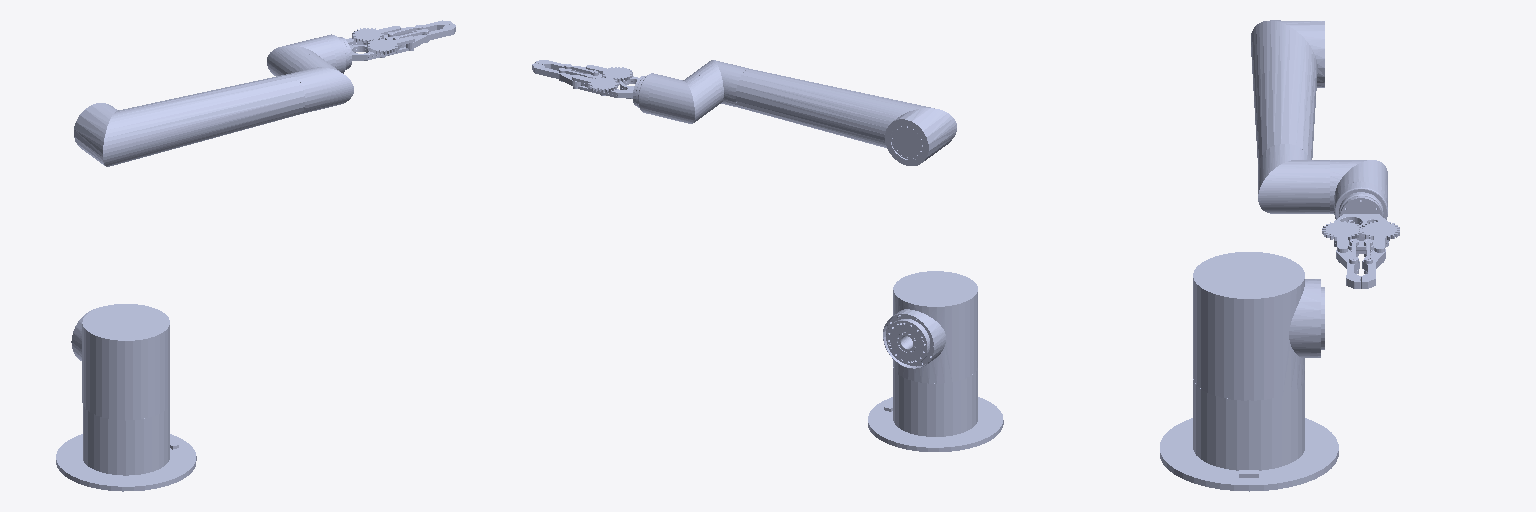
robot.urdf — robot_arm:
<robot
  name="robot_arm">
    <link name="world"/>

  <joint name="world_to_base" type="fixed">
    <parent link="world"/>
    <child link="base_link"/>
    <origin xyz="0 0 0" rpy="0 0 0"/>
  </joint>

  <link
    name="base_link">
    <inertial>
      <origin
        xyz="0.00033791 -8.6322E-06 0.072151"
        rpy="0 0 0" />
      <mass
        value="4.4055" />
      <inertia
        ixx="0.043342"
        ixy="-4.1293E-08"
        ixz="4.8991E-05"
        iyy="0.043568"
        iyz="-2.6332E-08"
        izz="0.063172" />
    </inertial>
    <visual>
      <origin
        xyz="0 0 0"
        rpy="0 0 0" />
      <geometry>
        <mesh
          filename="package://robot_arm/meshes/base_link.STL" />
      </geometry>
      <material
        name="">
        <color
          rgba="0.79216 0.81961 0.93333 1" />
      </material>
    </visual>
    <collision>
      <origin
        xyz="0 0 0"
        rpy="0 0 0" />
      <geometry>
        <mesh
          filename="package://robot_arm/meshes/base_link.STL" />
      </geometry>
    </collision>
  </link>
  <link
    name="link_1">
    <inertial>
      <origin
        xyz="0.0629481179134198 2.38289723024472E-05 0.133600984061708"
        rpy="0 0 0" />
      <mass
        value="1.87651195817962" />
      <inertia
        ixx="0.0175122406529912"
        ixy="4.75206626321694E-07"
        ixz="-0.000159492178414551"
        iyy="0.0161581943779732"
        iyz="-4.79165845226782E-07"
        izz="0.0142549003682989" />
    </inertial>
    <visual>
      <origin
        xyz="0 0 0"
        rpy="0 0 0" />
      <geometry>
        <mesh
          filename="package://robot_arm/meshes/link_1.STL" />
      </geometry>
      <material
        name="">
        <color
          rgba="0.792156862745098 0.819607843137255 0.933333333333333 1" />
      </material>
    </visual>
    <collision>
      <origin
        xyz="0 0 0"
        rpy="0 0 0" />
      <geometry>
        <mesh
          filename="package://robot_arm/meshes/link_1.STL" />
      </geometry>
    </collision>
  </link>
  <joint
    name="joint_1"
    type="revolute">
    <origin
      xyz="0 0 0.189"
      rpy="0 0 1.5708" />
    <parent
      link="base_link" />
    <child
      link="link_1" />
    <axis
      xyz="0 0 1" />
    <limit
      lower="-3.1416"
      upper="3.1416"
      effort="300"
      velocity="3.1416" />
  </joint>
  <link
    name="link_2">
    <inertial>
      <origin
        xyz="2.02803890482726E-05 0.393390159127154 0.0869587267477594"
        rpy="0 0 0" />
      <mass
        value="1.94569960752305" />
      <inertia
        ixx="0.0945732033859679"
        ixy="1.14433972046893E-06"
        ixz="1.89615028150245E-06"
        iyy="0.0106360113793762"
        iyz="-0.00171308153184432"
        izz="0.0942068157625614" />
    </inertial>
    <visual>
      <origin
        xyz="0 0 0"
        rpy="0 0 0" />
      <geometry>
        <mesh
          filename="package://robot_arm/meshes/link_2.STL" />
      </geometry>
      <material
        name="">
        <color
          rgba="0.792156862745098 0.819607843137255 0.933333333333333 1" />
      </material>
    </visual>
    <collision>
      <origin
        xyz="0 0 0"
        rpy="0 0 0" />
      <geometry>
        <mesh
          filename="package://robot_arm/meshes/link_2.STL" />
      </geometry>
    </collision>
  </link>
  <joint
    name="joint_2"
    type="revolute">
    <origin
      xyz="0.16 0 0.143"
      rpy="1.5708 0 1.5708" />
    <parent
      link="link_1" />
    <child
      link="link_2" />
    <axis
      xyz="0 0 1" />
    <limit
      lower="-1.5708"
      upper="3.1416"
      effort="500"
      velocity="3.1416" />
  </joint>
  <link
    name="link_3">
    <inertial>
      <origin
        xyz="-0.24100644770776 -1.78769323841976E-05 -0.0842683130518023"
        rpy="0 0 0" />
      <mass
        value="0.992123718214445" />
      <inertia
        ixx="0.0046404662727883"
        ixy="1.69568564621363E-06"
        ixz="-0.00136820638771841"
        iyy="0.0467810847303651"
        iyz="-5.53204496736316E-07"
        izz="0.0464143588828456" />
    </inertial>
    <visual>
      <origin
        xyz="0 0 0"
        rpy="0 0 0" />
      <geometry>
        <mesh
          filename="package://robot_arm/meshes/link_3.STL" />
      </geometry>
      <material
        name="">
        <color
          rgba="0.792156862745098 0.819607843137255 0.933333333333333 1" />
      </material>
    </visual>
    <collision>
      <origin
        xyz="0 0 0"
        rpy="0 0 0" />
      <geometry>
        <mesh
          filename="package://robot_arm/meshes/link_3.STL" />
      </geometry>
    </collision>
  </link>
  <joint
    name="joint_3"
    type="revolute">
    <origin
      xyz="0 0.65 0.01"
      rpy="0 0 0" />
    <parent
      link="link_2" />
    <child
      link="link_3" />
    <axis
      xyz="0 0 -1" />
    <limit
      lower="-2.3562"
      upper="2.3562"
      effort="350"
      velocity="3.1416" />
  </joint>
  <link
    name="link_4">
    <inertial>
      <origin
        xyz="0.0124721068231639 -6.80014488052549E-08 0.0730062206573129"
        rpy="0 0 0" />
      <mass
        value="0.288479921044316" />
      <inertia
        ixx="0.00130126015875175"
        ixy="-1.81543364389925E-09"
        ixz="-9.65870367170802E-05"
        iyy="0.00147099830935306"
        iyz="1.25645862243786E-10"
        izz="0.00106161180378532" />
    </inertial>
    <visual>
      <origin
        xyz="0 0 0"
        rpy="0 0 0" />
      <geometry>
        <mesh
          filename="package://robot_arm/meshes/link_4.STL" />
      </geometry>
      <material
        name="">
        <color
          rgba="0.792156862745098 0.819607843137255 0.933333333333333 1" />
      </material>
    </visual>
    <collision>
      <origin
        xyz="0 0 0"
        rpy="0 0 0" />
      <geometry>
        <mesh
          filename="package://robot_arm/meshes/link_4.STL" />
      </geometry>
    </collision>
  </link>
  <joint
    name="joint_4"
    type="revolute">
    <origin
      xyz="-0.6 0 -0.09"
      rpy="0 -1.5708 0" />
    <parent
      link="link_3" />
    <child
      link="link_4" />
    <axis
      xyz="0 0 -1" />
    <limit
      lower="-3.1416"
      upper="3.1416"
      effort="120"
      velocity="3.1416" />
  </joint>
  <link
    name="link_5">
    <inertial>
      <origin
        xyz="0.0140876410223744 7.23890825060636E-08 -0.0567094508970235"
        rpy="0 0 0" />
      <mass
        value="0.255398508666998" />
      <inertia
        ixx="0.000910418944898211"
        ixy="1.55492954739037E-09"
        ixz="4.72812969224889E-05"
        iyy="0.00107433949779789"
        iyz="1.53099711233508E-10"
        izz="0.00094251190261603" />
    </inertial>
    <visual>
      <origin
        xyz="0 0 0"
        rpy="0 0 0" />
      <geometry>
        <mesh
          filename="package://robot_arm/meshes/link_5.STL" />
      </geometry>
      <material
        name="">
        <color
          rgba="0.792156862745098 0.819607843137255 0.933333333333333 1" />
      </material>
    </visual>
    <collision>
      <origin
        xyz="0 0 0"
        rpy="0 0 0" />
      <geometry>
        <mesh
          filename="package://robot_arm/meshes/link_5.STL" />
      </geometry>
    </collision>
  </link>
  <joint
    name="joint_5"
    type="revolute">
    <origin
      xyz="0.0999999999999999 0 0.0998500000000002"
      rpy="0 -1.5707963267949 0" />
    <parent
      link="link_4" />
    <child
      link="link_5" />
    <axis
      xyz="0 0 -1" />
    <limit
      lower="-2.0944"
      upper="2.0944"
      effort="120"
      velocity="3.1416" />
  </joint>
  <link
    name="link_6">
    <inertial>
      <origin
        xyz="1.59432845175944E-07 -9.56734994561614E-08 0.0348586525989366"
        rpy="0 0 0" />
      <mass
        value="0.648640309376528" />
      <inertia
        ixx="0.00057975174480598"
        ixy="-1.88117277497814E-09"
        ixz="1.57376026490721E-09"
        iyy="0.000615308211609678"
        iyz="-9.44391136142298E-10"
        izz="0.000947390669096288" />
    </inertial>
    <visual>
      <origin
        xyz="0 0 0"
        rpy="0 0 0" />
      <geometry>
        <mesh
          filename="package://robot_arm_with_gripper_urdf/meshes/link_6.STL" />
      </geometry>
      <material
        name="">
        <color
          rgba="0.792156862745098 0.819607843137255 0.933333333333333 1" />
      </material>
    </visual>
    <collision>
      <origin
        xyz="0 0 0"
        rpy="0 0 0" />
      <geometry>
        <mesh
          filename="package://robot_arm_with_gripper_urdf/meshes/link_6.STL" />
      </geometry>
    </collision>
  </link>
  <joint
    name="joint_6"
    type="revolute">
    <origin
      xyz="0.1 0 -0.06985"
      rpy="0 1.5708 0" />
    <parent
      link="link_5" />
    <child
      link="link_6" />
    <axis
      xyz="0 0 -1" />
    <limit
      lower="-3.1416"
      upper="3.1416"
      effort="50"
      velocity="3.1416" />
  </joint>
  <link
    name="gripper_base">
    <inertial>
      <origin
        xyz="0.0012153 -1.654E-09 0.076285"
        rpy="0 0 0" />
      <mass
        value="0.28531" />
      <inertia
        ixx="0.0010742"
        ixy="-1.0322E-11"
        ixz="1.3265E-05"
        iyy="0.0013691"
        iyz="2.7508E-11"
        izz="0.00038096" />
    </inertial>
    <visual>
      <origin
        xyz="0 0 0"
        rpy="0 0 0" />
      <geometry>
        <mesh
          filename="package://robot_arm_with_gripper_urdf/meshes/gripper_base.STL" />
      </geometry>
      <material
        name="">
        <color
          rgba="0.79216 0.81961 0.93333 1" />
      </material>
    </visual>
    <collision>
      <origin
        xyz="0 0 0"
        rpy="0 0 0" />
      <geometry>
        <mesh
          filename="package://robot_arm_with_gripper_urdf/meshes/gripper_base.STL" />
      </geometry>
    </collision>
  </link>
  <joint
    name="gripper_mount_joint"
    type="fixed">
    <origin
      xyz="0 0 0.04985"
      rpy="0 0 0" />
    <parent
      link="link_6" />
    <child
      link="gripper_base" />
    <axis
      xyz="0 0 0" />
  </joint>
  <link
    name="left_gear">
    <inertial>
      <origin
        xyz="0.00016205 -0.021316 0.0089676"
        rpy="0 0 0" />
      <mass
        value="0.076333" />
      <inertia
        ixx="0.00011981"
        ixy="6.8053E-07"
        ixz="6.857E-08"
        iyy="3.0298E-05"
        iyz="-9.0194E-06"
        izz="0.00013384" />
    </inertial>
    <visual>
      <origin
        xyz="0 0 0"
        rpy="0 0 0" />
      <geometry>
        <mesh
          filename="package://robot_arm_with_gripper_urdf/meshes/left_gear.STL" />
      </geometry>
      <material
        name="">
        <color
          rgba="0.79216 0.81961 0.93333 1" />
      </material>
    </visual>
    <collision>
      <origin
        xyz="0 0 0"
        rpy="0 0 0" />
      <geometry>
        <mesh
          filename="package://robot_arm_with_gripper_urdf/meshes/left_gear.STL" />
      </geometry>
    </collision>
  </link>
  <joint
    name="left_gear_joint"
    type="revolute">
    <origin
      xyz="-0.0417 -0.00015974 0.1128"
      rpy="-1.5708 0 0" />
    <parent
      link="gripper_base" />
    <child
      link="left_gear" />
    <axis
      xyz="0 0 -1" />
    <limit
      lower="0"
      upper="1.76"
      effort="100"
      velocity="3" />
  </joint>
  <link
    name="left_jaw">
    <inertial>
      <origin
        xyz="0.015718 -0.070491 1.4877E-14"
        rpy="0 0 0" />
      <mass
        value="0.079323" />
      <inertia
        ixx="0.00021859"
        ixy="2.9545E-05"
        ixz="-3.1876E-20"
        iyy="1.1022E-05"
        iyz="1.3441E-19"
        izz="0.00022854" />
    </inertial>
    <visual>
      <origin
        xyz="0 0 0"
        rpy="0 0 0" />
      <geometry>
        <mesh
          filename="package://robot_arm_with_gripper_urdf/meshes/left_jaw.STL" />
      </geometry>
      <material
        name="">
        <color
          rgba="0.79216 0.81961 0.93333 1" />
      </material>
    </visual>
    <collision>
      <origin
        xyz="0 0 0"
        rpy="0 0 0" />
      <geometry>
        <mesh
          filename="package://robot_arm_with_gripper_urdf/meshes/left_jaw.STL" />
      </geometry>
    </collision>
  </link>
  <joint
    name="left_jaw_joint"
    type="revolute">
    <origin
      xyz="0.00070701 -0.092997 0.00015974"
      rpy="0 0 0" />
    <parent
      link="left_gear" />
    <child
      link="left_jaw" />
    <axis
      xyz="0 0 -1" />
    <limit
      lower="-1.76"
      upper="0"
      effort="100"
      velocity="3" />
    <mimic
      joint="left_gear_joint"
      multiplier="-1"
      offset="0" />
  </joint>
  <link
    name="right_gear">
    <inertial>
      <origin
        xyz="-0.00016176 -0.021277 0.0089569"
        rpy="0 0 0" />
      <mass
        value="0.076159" />
      <inertia
        ixx="0.00010342"
        ixy="-6.1068E-07"
        ixz="-7.0504E-09"
        iyy="2.3095E-05"
        iyz="-9.2739E-07"
        izz="0.00012459" />
    </inertial>
    <visual>
      <origin
        xyz="0 0 0"
        rpy="0 0 0" />
      <geometry>
        <mesh
          filename="package://robot_arm_with_gripper_urdf/meshes/right_gear.STL" />
      </geometry>
      <material
        name="">
        <color
          rgba="0.79216 0.81961 0.93333 1" />
      </material>
    </visual>
    <collision>
      <origin
        xyz="0 0 0"
        rpy="0 0 0" />
      <geometry>
        <mesh
          filename="package://robot_arm_with_gripper_urdf/meshes/right_gear.STL" />
      </geometry>
    </collision>
  </link>
  <joint
    name="right_gear_joint"
    type="revolute">
    <origin
      xyz="0.0417 -0.00015974 0.1128"
      rpy="-1.5708 0 0" />
    <parent
      link="gripper_base" />
    <child
      link="right_gear" />
    <axis
      xyz="0 0 -1" />
    <limit
      lower="-1.76"
      upper="0"
      effort="100"
      velocity="3" />
    <mimic
      joint="left_gear_joint"
      multiplier="-1"
      offset="0" />
  </joint>
  <link
    name="right_jaw">
    <inertial>
      <origin
        xyz="-0.0157181141759559 -0.0704910320406826 1.49880108324396E-14"
        rpy="0 0 0" />
      <mass
        value="0.0793226646010456" />
      <inertia
        ixx="0.000218590024538099"
        ixy="-2.95453817007067E-05"
        ixz="-1.58788322984294E-20"
        iyy="1.10223400416713E-05"
        iyz="-9.16987996868778E-20"
        izz="0.000228541508607656" />
    </inertial>
    <visual>
      <origin
        xyz="0 0 0"
        rpy="0 0 0" />
      <geometry>
        <mesh
          filename="package://robot_arm_with_gripper_urdf/meshes/right_jaw.STL" />
      </geometry>
      <material
        name="">
        <color
          rgba="0.792156862745098 0.819607843137255 0.933333333333333 1" />
      </material>
    </visual>
    <collision>
      <origin
        xyz="0 0 0"
        rpy="0 0 0" />
      <geometry>
        <mesh
          filename="package://robot_arm_with_gripper_urdf/meshes/right_jaw.STL" />
      </geometry>
    </collision>
  </link>
  <joint
    name="right_jaw_joint"
    type="revolute">
    <origin
      xyz="-0.00070701 -0.092997 0.00015974"
      rpy="0 0 0" />
    <parent
      link="right_gear" />
    <child
      link="right_jaw" />
    <axis
      xyz="0 0 1" />
    <limit
      lower="-1.76"
      upper="0"
      effort="100"
      velocity="3" />
    <mimic
      joint="left_gear_joint"
      multiplier="-1"
      offset="0" />
  </joint>
  <link
    name="left_linker">
    <inertial>
      <origin
        xyz="-0.00028424 -0.046499 0.00015974"
        rpy="0 0 0" />
      <mass
        value="0.026664" />
      <inertia
        ixx="4.2285E-05"
        ixy="-2.2726E-07"
        ixz="-1.4735E-20"
        iyy="5.1077E-06"
        iyz="1.4162E-20"
        izz="3.8057E-05" />
    </inertial>
    <visual>
      <origin
        xyz="0 0 0"
        rpy="0 0 0" />
      <geometry>
        <mesh
          filename="package://robot_arm_with_gripper_urdf/meshes/left_linker.STL" />
      </geometry>
      <material
        name="">
        <color
          rgba="0.79216 0.81961 0.93333 1" />
      </material>
    </visual>
    <collision>
      <origin
        xyz="0 0 0"
        rpy="0 0 0" />
      <geometry>
        <mesh
          filename="package://robot_arm_with_gripper_urdf/meshes/left_linker.STL" />
      </geometry>
    </collision>
  </link>
  <joint
    name="left_linker_joint"
    type="revolute">
    <origin
      xyz="-0.015719 -0.00015974 0.174"
      rpy="-1.5708 0 0" />
    <parent
      link="gripper_base" />
    <child
      link="left_linker" />
    <axis
      xyz="0 0 -1" />
    <limit
      lower="0"
      upper="1.76"
      effort="100"
      velocity="3" />
    <mimic
      joint="left_gear_joint"
      multiplier="1"
      offset="0" />
  </joint>
  <link
    name="right_linker">
    <inertial>
      <origin
        xyz="0.00028424 -0.046499 0.00015974"
        rpy="0 0 0" />
      <mass
        value="0.026664" />
      <inertia
        ixx="4.2285E-05"
        ixy="2.2726E-07"
        ixz="-1.8802E-20"
        iyy="5.1077E-06"
        iyz="1.2799E-20"
        izz="3.8057E-05" />
    </inertial>
    <visual>
      <origin
        xyz="0 0 0"
        rpy="0 0 0" />
      <geometry>
        <mesh
          filename="package://robot_arm_with_gripper_urdf/meshes/right_linker.STL" />
      </geometry>
      <material
        name="">
        <color
          rgba="0.79216 0.81961 0.93333 1" />
      </material>
    </visual>
    <collision>
      <origin
        xyz="0 0 0"
        rpy="0 0 0" />
      <geometry>
        <mesh
          filename="package://robot_arm_with_gripper_urdf/meshes/right_linker.STL" />
      </geometry>
    </collision>
  </link>
  <joint
    name="right_linker_joint"
    type="revolute">
    <origin
      xyz="0.015719 -0.00015974 0.174"
      rpy="-1.5708 0 0" />
    <parent
      link="gripper_base" />
    <child
      link="right_linker" />
    <axis
      xyz="0 0 -1" />
    <limit
      lower="-1.76"
      upper="0"
      effort="100"
      velocity="3" />
    <mimic
      joint="left_gear_joint"
      multiplier="-1"
      offset="0" />
  </joint>
  <ros2_control name="GazeboSystem" type="system">
    <hardware>
      <plugin>gazebo_ros2_control/GazeboSystem</plugin>
    </hardware>

    <joint name="joint_1">
      <command_interface name="position"/>
      <state_interface name="position">
        <param name="initial_value">0.0</param>
      </state_interface>
      <state_interface name="velocity"/>
    </joint>

    <joint name="joint_2">
      <command_interface name="position"/>
      <state_interface name="position">
        <param name="initial_value">0.0</param>
      </state_interface>
      <state_interface name="velocity"/>
    </joint>

    <joint name="joint_3">
      <command_interface name="position"/>
      <state_interface name="position">
        <param name="initial_value">0.0</param>
      </state_interface>
      <state_interface name="velocity"/>
    </joint>

    <joint name="joint_4">
      <command_interface name="position"/>
      <state_interface name="position">
        <param name="initial_value">0.0</param>
      </state_interface>
      <state_interface name="velocity"/>
    </joint>

    <joint name="joint_5">
      <command_interface name="position"/>
      <state_interface name="position">
        <param name="initial_value">0.0</param>
      </state_interface>
      <state_interface name="velocity"/>
    </joint>

    <joint name="joint_6">
      <command_interface name="position"/>
      <state_interface name="position">
        <param name="initial_value">0.0</param>
      </state_interface>
      <state_interface name="velocity"/>
    </joint>
  <joint name="left_gear_joint">
    <command_interface name="position"/>
    <state_interface name="position">
      <param name="initial_value">0.0</param>
    </state_interface>
    <state_interface name="velocity"/>
  </joint>

  <joint name="left_jaw_joint">
    <param name="mimic">left_gear_joint</param>
    <param name="multiplier">-1</param>
    <command_interface name="position"/>
    <state_interface name="position"/>
    <state_interface name="velocity"/>
  </joint>

  <joint name="right_gear_joint">
    <param name="mimic">left_gear_joint</param>
    <param name="multiplier">-1</param>
    <command_interface name="position"/>
    <state_interface name="position"/>
    <state_interface name="velocity"/>
  </joint>

  <joint name="right_jaw_joint">
    <param name="mimic">left_gear_joint</param>
    <param name="multiplier">-1</param>
    <command_interface name="position"/>
    <state_interface name="position"/>
    <state_interface name="velocity"/>
  </joint>

  <joint name="left_linker_joint">
    <param name="mimic">left_gear_joint</param>
    <param name="multiplier">1</param>
    <command_interface name="position"/>
    <state_interface name="position"/>
    <state_interface name="velocity"/>
  </joint>

  <joint name="right_linker_joint">
    <param name="mimic">left_gear_joint</param>
    <param name="multiplier">-1</param>
    <command_interface name="position"/>
    <state_interface name="position"/>
    <state_interface name="velocity"/>
  </joint>    
  </ros2_control>

  <gazebo>
<plugin name="gazebo_ros2_control" filename="libgazebo_ros2_control.so">
  <parameters>/home/yousef_elbeltagy/robot_arm_ws/src/robot_arm_with_gripper_urdf/config/controllers.yaml</parameters>
</plugin>
  </gazebo>
</robot>

--- Render facts (derived) ---
3 views of the same robot in one strip: view 1: azimuth 30°, elevation 25°; view 2: azimuth 150°, elevation 25°; view 3: azimuth 270°, elevation 25° (orthographic).
Model robot_arm with 15 links and 14 joints (12 revolute, 2 fixed), rooted at world, posed all joints at 0.
Links seen in each view (by area): view 1: link_3, link_1, base_link, link_4, link_5, left_gear, gripper_base; view 2: link_3, link_1, base_link, link_5, link_4, right_gear; view 3: link_1, base_link, link_3, link_4, link_5, gripper_base, link_6, left_gear, right_gear.
Boxes of the visible links, <box> form: link_3: <box>74,74,304,166</box>; link_1: <box>71,304,169,420</box>; base_link: <box>56,405,196,491</box>; link_4: <box>290,54,353,113</box>; link_5: <box>267,37,335,76</box>; left_gear: <box>367,36,414,57</box>; gripper_base: <box>340,35,401,68</box>; link_3: <box>736,69,956,165</box>; link_1: <box>883,271,977,383</box>; base_link: <box>868,367,1003,451</box>; link_5: <box>648,75,716,123</box>; link_4: <box>690,60,748,109</box>; right_gear: <box>572,75,618,95</box>; link_1: <box>1193,252,1324,400</box>; base_link: <box>1160,379,1338,491</box>; link_3: <box>1251,20,1324,163</box>; link_4: <box>1258,144,1329,213</box>; link_5: <box>1330,160,1387,213</box>; gripper_base: <box>1334,196,1388,253</box>; link_6: <box>1334,181,1387,219</box>; left_gear: <box>1322,221,1362,262</box>; right_gear: <box>1360,221,1399,262</box>.
Size in the robot's own frame: 1.42 by 0.5364 by 1.06 metres.
Meshes: 14 distinct files referenced, 13 mesh visuals loaded (13 binary STL); not drawn: 1 (reference not matched to a file when rendering).
